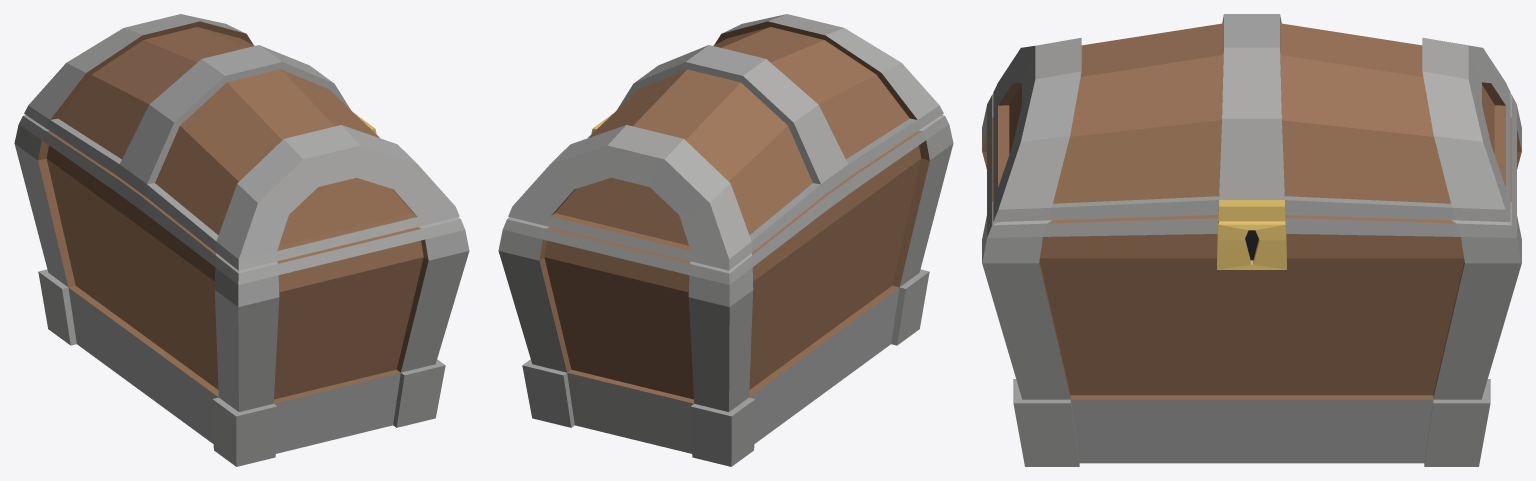
The model's file is chest.fbx.
3 views of the same model, side by side, from view 1: azimuth 30°, elevation 25°; view 2: azimuth 150°, elevation 25°; view 3: azimuth 270°, elevation 25° (orthographic). The views are drawn at different scales.
Parts seen in each view (by area): view 1: pCylinder1; view 2: pCylinder1; view 3: pCylinder1.
Part boxes in pixels (x1,y1,x2,y2): pCylinder1: (14,14,469,466); pCylinder1: (498,14,953,466); pCylinder1: (982,14,1521,466).
Size of the model in its own units: 2.83 by 3.5 by 4.53.
